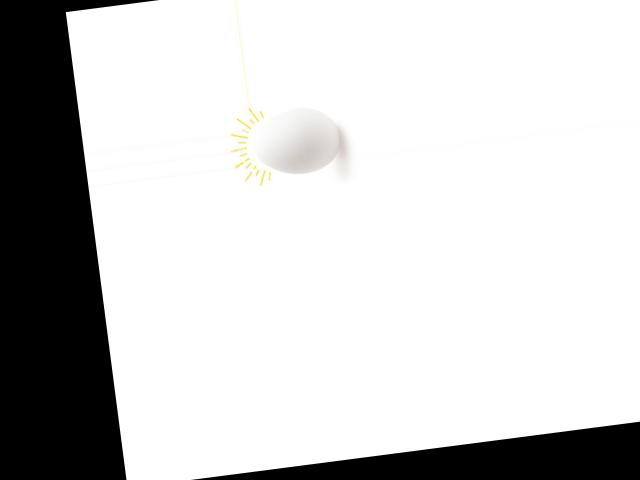egg: (249, 102, 343, 178)
